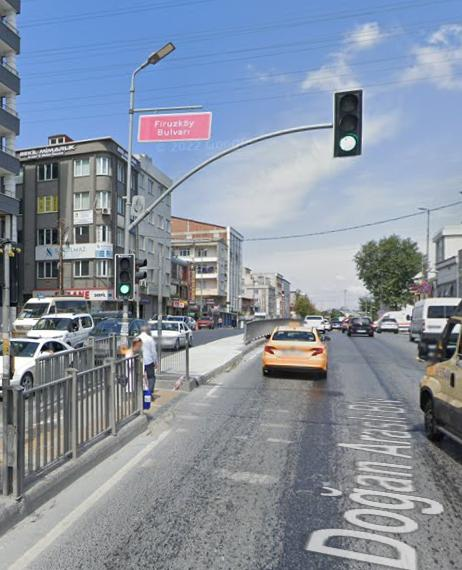greenlight: (336, 92, 361, 154), (116, 255, 132, 296)
